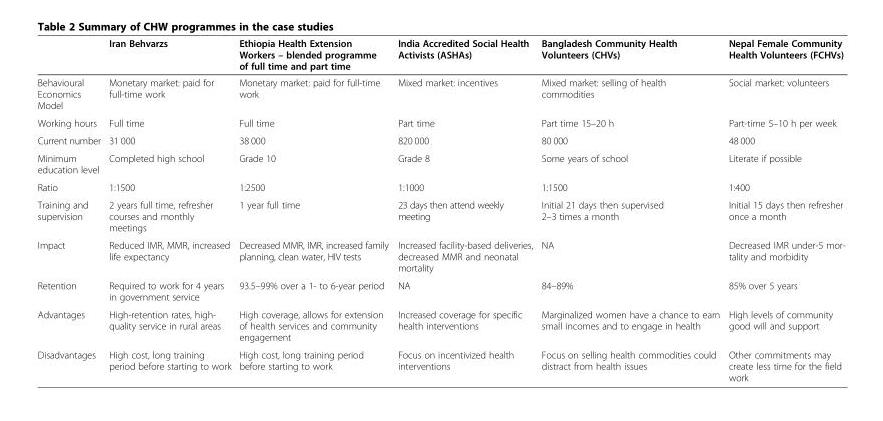table: (36, 37, 844, 382)
table column: (536, 37, 723, 382), (234, 37, 392, 382), (392, 37, 536, 382), (104, 37, 234, 382), (723, 37, 844, 382), (36, 37, 104, 382)
table column header: (36, 37, 844, 73)
table row: (36, 235, 844, 276), (36, 73, 844, 113), (36, 195, 844, 235), (36, 305, 844, 345), (36, 345, 844, 382), (36, 37, 844, 73), (36, 149, 844, 178), (36, 276, 844, 305), (36, 113, 844, 131), (36, 131, 844, 149), (36, 178, 844, 195)
